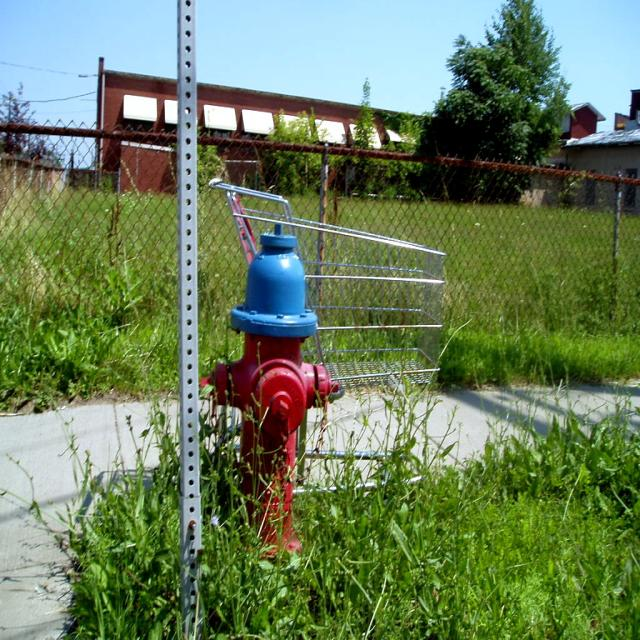fire_hydrant: (201, 225, 339, 567), (199, 226, 334, 556)
